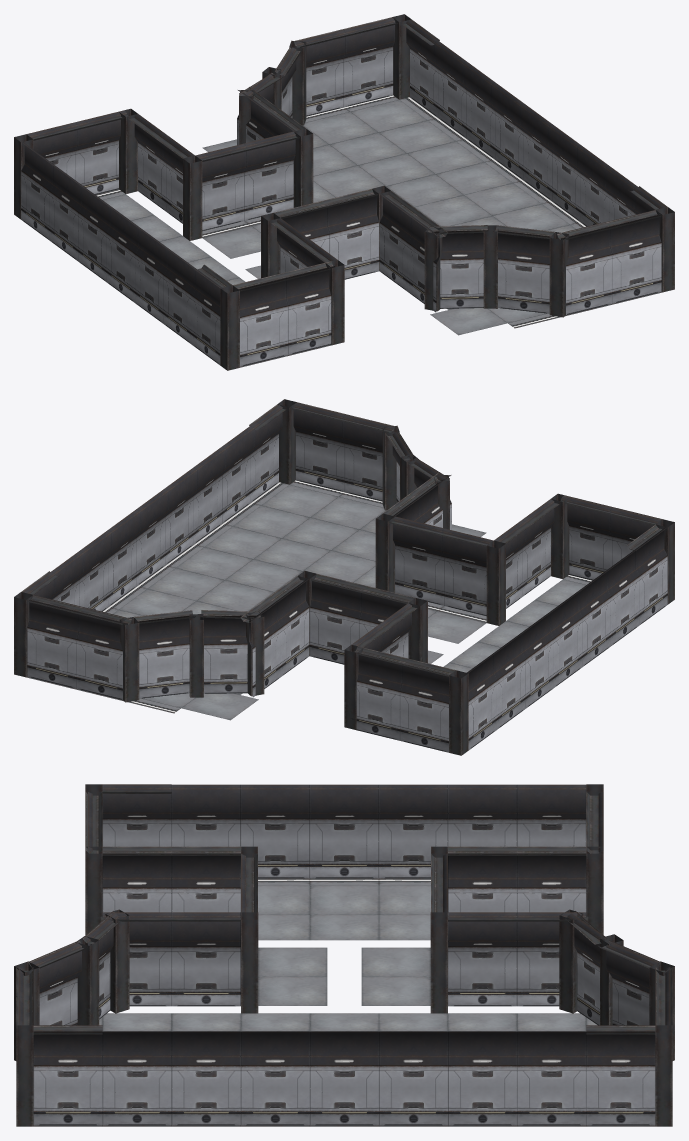
The model's file is SalaCobaias 1.fbx.
3 views of the same model, one above another, from view 1: azimuth 30°, elevation 25°; view 2: azimuth 150°, elevation 25°; view 3: azimuth 270°, elevation 25° (orthographic). The views are drawn at different scales.
Parts seen in each view (by area): view 1: ROOM_WALL.058, ROOM_WALL.071, ROOM_WALL.150, ROOM_WALL.162, ROOM_WALL.064, ROOM_WALL.072, ROOM_WALL.083, ROOM_WALL.066, ROOM_WALL.062, ROOM_WALL.160, ROOM_WALL.145, ROOM_WALL.151 (+55 smaller); view 2: ROOM_WALL.137, ROOM_WALL.150, ROOM_WALL.071, ROOM_WALL.143, ROOM_WALL.083, ROOM_WALL.151, ROOM_WALL.162, ROOM_WALL.145, ROOM_WALL.141, ROOM_WALL.081, ROOM_WALL.066, ROOM_WALL.072 (+56 smaller); view 3: ROOM_WALL.068, ROOM_WALL.069, ROOM_WALL.147, ROOM_WALL.148, ROOM_WALL.070, ROOM_WALL.149, ROOM_WALL.002, ROOM_WALL.099, ROOM_WALL.177, ROOM_WALL.186, ROOM_WALL.086, ROOM_WALL.165 (+52 smaller).
Boxes of the visible parts, x1,y1,x2,y2 form: ROOM_WALL.058: [497, 230, 550, 313]; ROOM_WALL.071: [610, 214, 661, 303]; ROOM_WALL.150: [344, 18, 395, 107]; ROOM_WALL.162: [244, 131, 295, 220]; ROOM_WALL.064: [239, 277, 288, 366]; ROOM_WALL.072: [561, 226, 612, 314]; ROOM_WALL.083: [327, 194, 379, 279]; ROOM_WALL.066: [286, 265, 336, 354]; ROOM_WALL.062: [432, 230, 488, 308]; ROOM_WALL.160: [195, 143, 246, 230]; ROOM_WALL.145: [75, 110, 126, 194]; ROOM_WALL.151: [295, 30, 345, 116]; ROOM_WALL.137: [138, 615, 191, 698]; ROOM_WALL.150: [27, 599, 78, 688]; ROOM_WALL.071: [293, 403, 344, 492]; ROOM_WALL.143: [400, 663, 449, 752]; ROOM_WALL.083: [393, 516, 444, 605]; ROOM_WALL.151: [76, 611, 127, 699]; ROOM_WALL.162: [309, 579, 361, 664]; ROOM_WALL.145: [350, 651, 401, 740]; ROOM_WALL.141: [200, 615, 256, 693]; ROOM_WALL.081: [442, 528, 493, 615]; ROOM_WALL.066: [561, 496, 612, 580]; ROOM_WALL.072: [343, 415, 393, 501]; ROOM_WALL.068: [171, 1031, 240, 1125]; ROOM_WALL.069: [102, 1031, 171, 1125]; ROOM_WALL.147: [448, 1031, 517, 1125]; ROOM_WALL.148: [517, 1031, 586, 1125]; ROOM_WALL.070: [33, 1031, 102, 1125]; ROOM_WALL.149: [586, 1031, 655, 1125]; ROOM_WALL.002: [241, 1031, 309, 1125]; ROOM_WALL.099: [379, 1031, 447, 1125]; ROOM_WALL.177: [310, 1031, 378, 1125]; ROOM_WALL.186: [310, 784, 378, 878]; ROOM_WALL.086: [171, 912, 240, 1006]; ROOM_WALL.165: [448, 912, 517, 1006].
Bounding box in the file's own units: 33.99 × 6 × 38.27.
